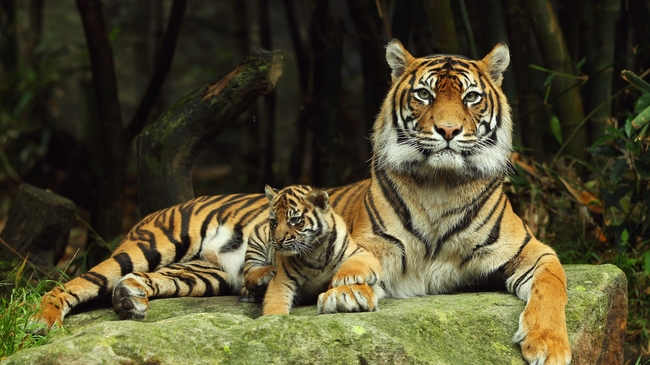tiger: (35, 39, 574, 363), (239, 183, 377, 321)
